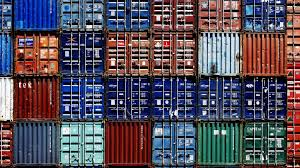container_door: (152, 76, 198, 122), (151, 122, 197, 168), (60, 122, 106, 168), (13, 30, 58, 76), (59, 32, 105, 77), (105, 32, 151, 77), (152, 30, 198, 75), (59, 78, 105, 123), (105, 77, 151, 122), (197, 76, 243, 121), (241, 122, 287, 167), (241, 76, 286, 121), (60, 1, 105, 30), (105, 1, 150, 30), (196, 1, 241, 30), (241, 1, 286, 30), (150, 1, 194, 30)
container_no_door: (104, 121, 151, 168), (197, 121, 243, 167), (12, 76, 59, 120), (12, 122, 59, 166), (199, 31, 241, 77), (243, 31, 285, 74), (12, 1, 61, 30)
